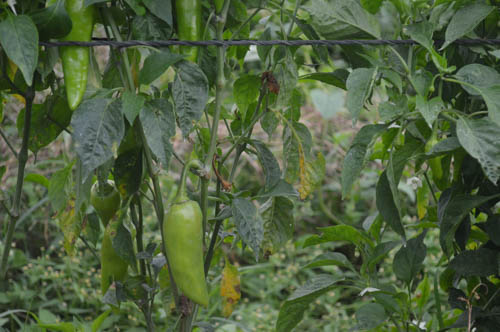ChiliPepper: (163, 202, 208, 306), (55, 4, 88, 111), (93, 224, 135, 294), (169, 2, 197, 60), (91, 183, 120, 215)
